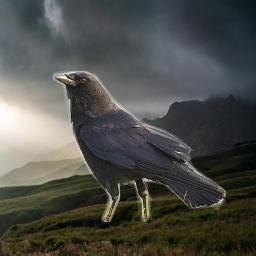Crow: (52, 71, 226, 222)
